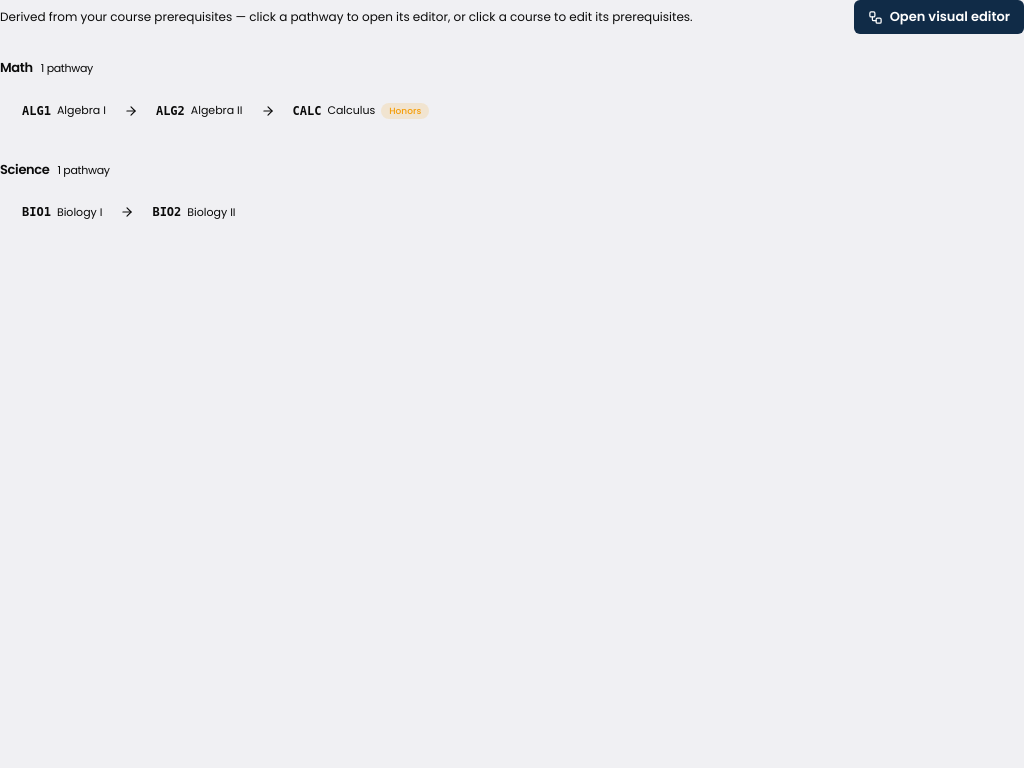
it: PathwaysPanel › blocks saving when the clicked course is missing from the loaded catalog
Click the text "CALC": (307, 110) [292,102,321,120]
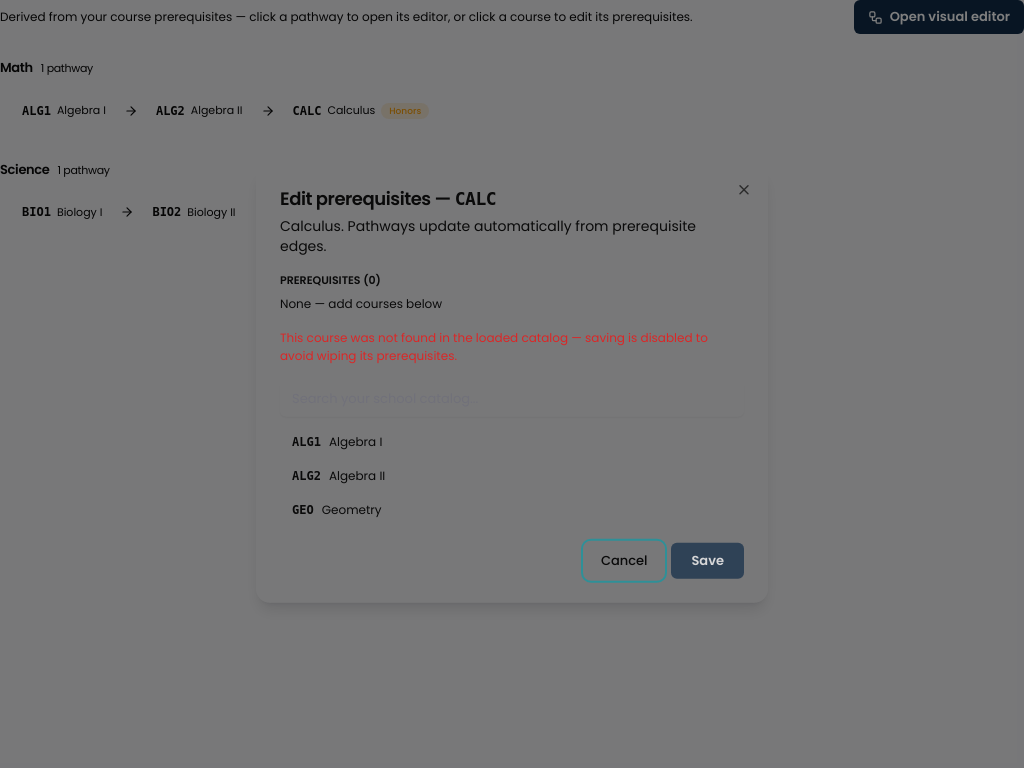
Now the text "not found in the loaded catalog" is shown, box [280,328,708,363]
Now the button "Save" is disabled, box [672,542,744,578]
